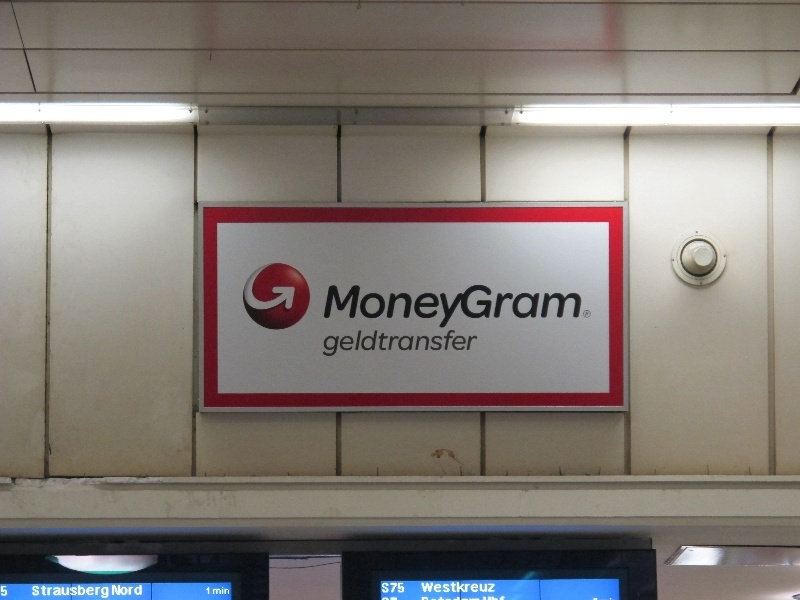text: (337, 284, 352, 331), (353, 284, 368, 331), (369, 284, 384, 331), (385, 284, 400, 331), (401, 284, 416, 331), (417, 284, 432, 331), (433, 284, 448, 331), (449, 284, 464, 331), (465, 284, 480, 331), (481, 284, 496, 331), (497, 284, 512, 331), (513, 284, 528, 331), (529, 284, 544, 331), (545, 284, 560, 331), (561, 284, 576, 331), (337, 330, 352, 357), (353, 330, 368, 357), (369, 330, 384, 357), (385, 330, 400, 357), (401, 330, 416, 357), (417, 330, 432, 357), (433, 330, 448, 357), (449, 330, 464, 357), (465, 330, 479, 357), (328, 284, 336, 331), (325, 330, 336, 357), (577, 284, 583, 331), (33, 586, 48, 599), (49, 586, 64, 599), (65, 586, 80, 599), (81, 586, 96, 599), (385, 583, 400, 594), (113, 585, 128, 596), (1, 586, 16, 597), (97, 586, 109, 599), (433, 583, 448, 593), (449, 583, 464, 593), (465, 583, 480, 593), (129, 585, 142, 596), (481, 583, 495, 593), (421, 583, 432, 593), (213, 587, 224, 595), (433, 597, 448, 600), (449, 597, 464, 600), (465, 597, 480, 600), (481, 597, 496, 600), (401, 583, 405, 594), (225, 587, 230, 595), (586, 312, 592, 317), (422, 597, 432, 600), (385, 598, 398, 600), (497, 597, 505, 600), (382, 583, 384, 594), (206, 587, 208, 595), (209, 587, 210, 595), (383, 598, 384, 600)
